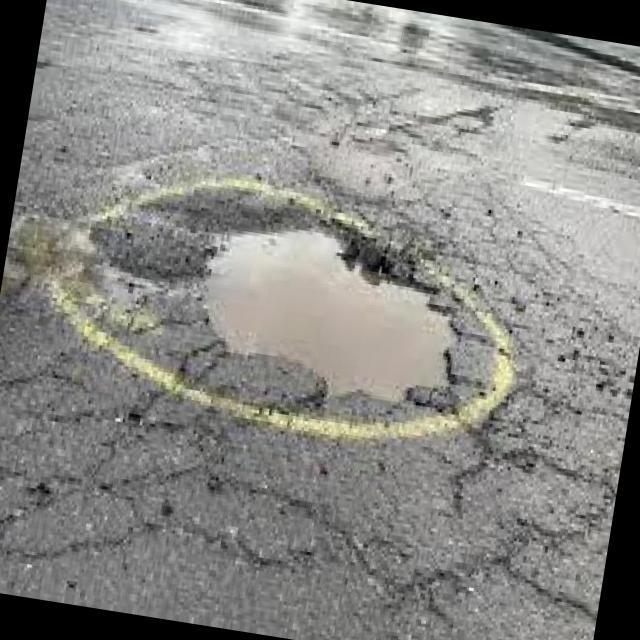Pothole: (160, 228, 511, 439)
